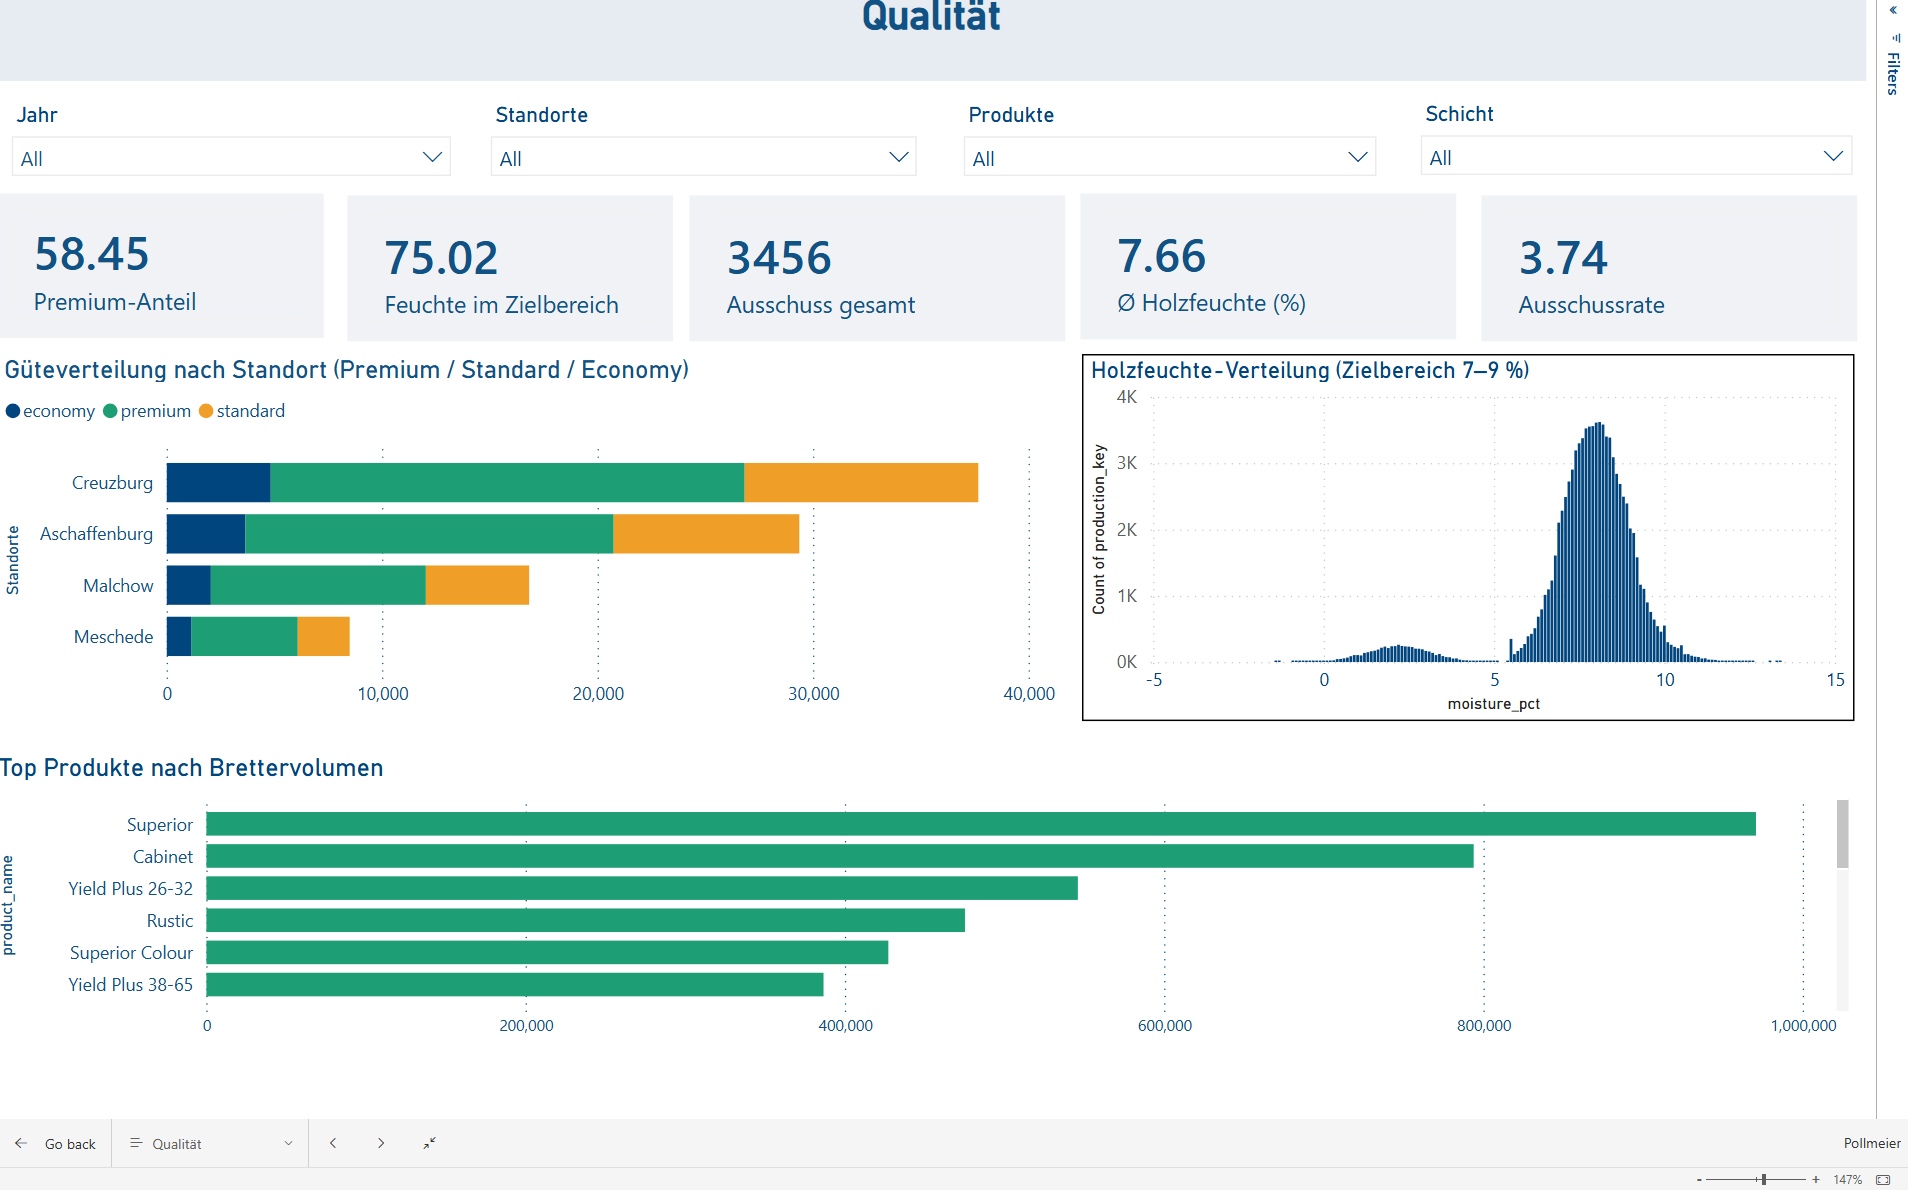

Layout of this report page (visuals, bound fields, positions):
{"tool":"powerbi","page":{"name":"Qualität","canvas":[1280,720],"ordinal":1},"visuals":[{"type":"columnChart","title":"Holzfeuchte-Verteilung (Zielbereich 7–9 %)","fields":{"Category":["FACT_Production.moisture_pct"],"Y":["CountNonNull(FACT_Production.production_key)"]},"box":[741.5,246.3,523.9,249],"z":0,"group":"g1"},{"type":"slicer","fields":{"Values":["DIM_Shift.shift_name"]},"box":[960.9,69.9,312.5,62.7],"z":2000},{"type":"textbox","title":"Qualität","box":[5.3,0,1268,61.2],"z":3000},{"type":"barChart","title":"Top Produkte nach Brettervolumen","fields":{"Category":["DIM_Product.product_name"],"Y":["_Measures.Bretter Gesamt"]},"box":[1.2,516.1,1264.9,203.9],"z":4000},{"type":"group","id":"g1","title":"Gruppe 1","box":[741.5,246.3,523.9,249],"z":6000},{"type":"slicer","fields":{"Values":["DIM_Site.site_name"]},"box":[330.4,70.5,309.5,63],"z":8000},{"type":"slicer","fields":{"Values":["DIM_Date.year"]},"box":[5.2,70.6,318.1,62.8],"z":9000},{"type":"cardVisual","fields":{"Data":["_Measures.Premium Prozent"]},"box":[0,132.5,232.8,108.4],"z":10000},{"type":"barChart","title":"Güteverteilung nach Standort (Premium / Standard / Economy)","fields":{"Series":["DIM_Product.grade_group"],"Category":["DIM_Site.site_name"],"Y":["CountNonNull(FACT_Production.production_key)"]},"box":[5.4,246.3,722.7,249],"z":11000},{"type":"slicer","fields":{"Values":["DIM_Product.product_family"]},"box":[651,70.7,300,62.7],"z":12000},{"type":"cardVisual","fields":{"Data":["_Measures.Anzahl FAIL"]},"box":[470.1,133.4,265.1,109.3],"z":13000},{"type":"cardVisual","fields":{"Data":["_Measures.Feuchte OK Prozent"]},"box":[238.2,133.4,231.9,109.3],"z":14000},{"type":"cardVisual","fields":{"Data":["_Measures.Ø Feuchte"]},"box":[735.2,132.5,265.1,109.3],"z":15000},{"type":"cardVisual","fields":{"Data":["_Measures.FAIL Rate Prozent"]},"box":[1007.5,133.4,265.1,109.3],"z":16000}]}

Visuals, with their boxes on the page's 1280x720 design canvas (x1, y1, x2, y2). These are canvas units, not pixel positions in the 1908x1190 screenshot, which may show the page scaled, cropped or inside an application window:
"Holzfeuchte-Verteilung (Zielbereich 7–9 %)" columnChart: detection(742, 246, 1265, 495)
slicer - DIM_Shift.shift_name: detection(961, 70, 1273, 133)
"Qualität" textbox: detection(5, 0, 1273, 61)
"Top Produkte nach Brettervolumen" barChart: detection(1, 516, 1266, 720)
"Gruppe 1" group: detection(742, 246, 1265, 495)
slicer - DIM_Site.site_name: detection(330, 70, 640, 134)
slicer - DIM_Date.year: detection(5, 71, 323, 133)
cardVisual - _Measures.Premium Prozent: detection(0, 132, 233, 241)
"Güteverteilung nach Standort (Premium / Standard / Economy)" barChart: detection(5, 246, 728, 495)
slicer - DIM_Product.product_family: detection(651, 71, 951, 133)
cardVisual - _Measures.Anzahl FAIL: detection(470, 133, 735, 243)
cardVisual - _Measures.Feuchte OK Prozent: detection(238, 133, 470, 243)
cardVisual - _Measures.Ø Feuchte: detection(735, 132, 1000, 242)
cardVisual - _Measures.FAIL Rate Prozent: detection(1008, 133, 1273, 243)
